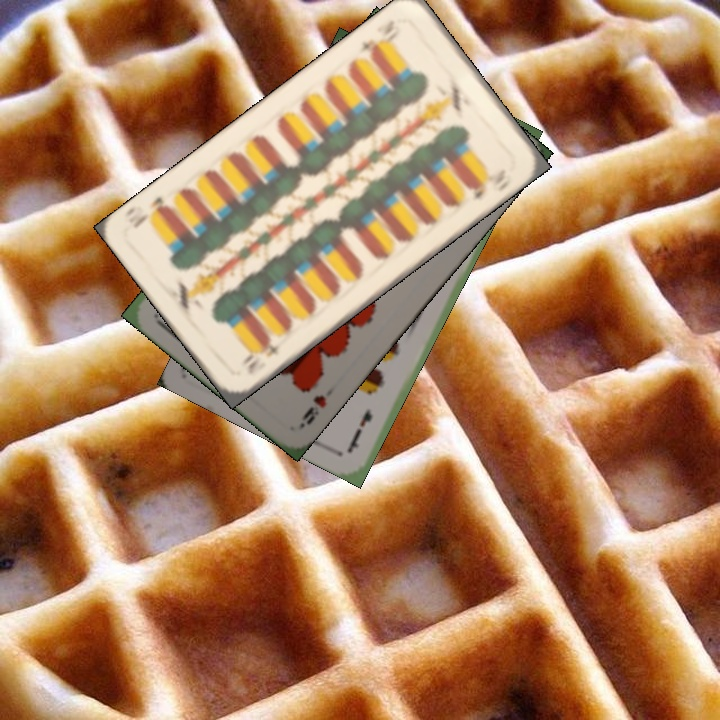E10: (236, 335, 283, 378), (356, 15, 398, 59)
E7: (344, 404, 375, 454)
H9: (295, 390, 329, 431)
